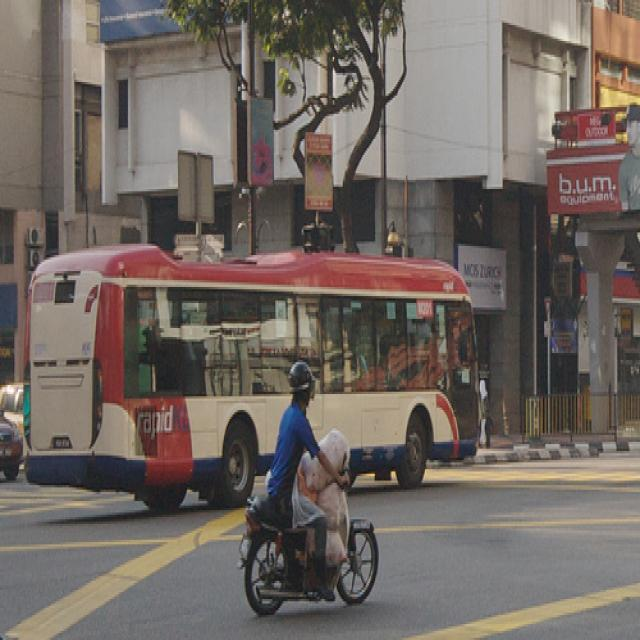motor: (237, 490, 380, 616)
